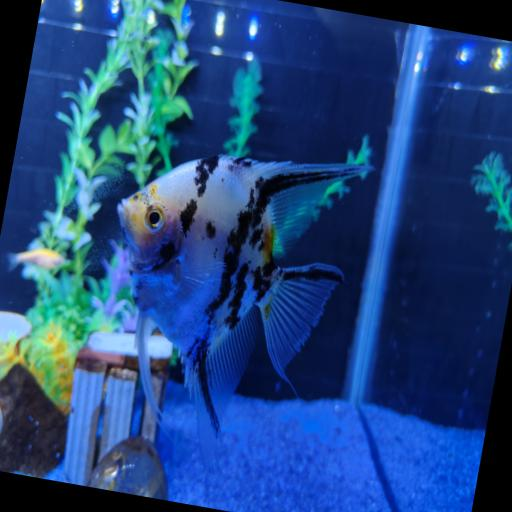Fish: (117, 156, 371, 469), (7, 248, 64, 271), (0, 410, 1, 429)
